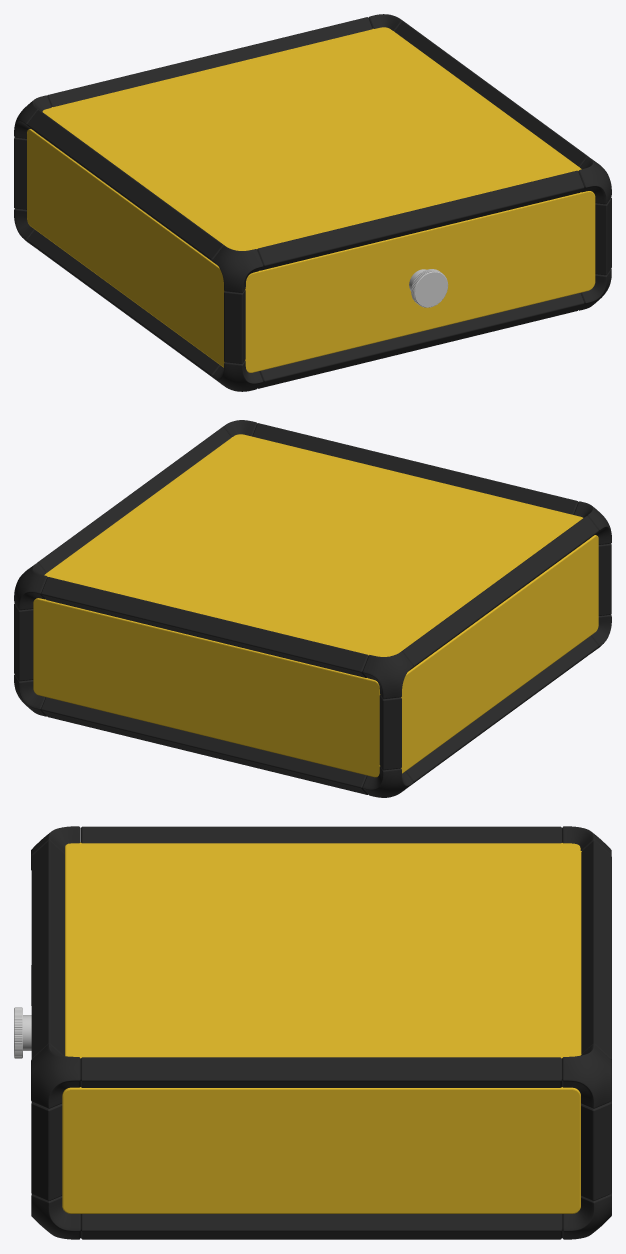
3 views of the same model, one above another, from view 1: azimuth 30°, elevation 25°; view 2: azimuth 150°, elevation 25°; view 3: azimuth 270°, elevation 25° (orthographic). The views are drawn at different scales.
Parts seen in each view (by area): view 1: 374x374x79; view 2: 374x374x79; view 3: 374x374x79.
Boxes of the visible parts, <box> form: 374x374x79: <box>14,14,611,391</box>; 374x374x79: <box>14,420,611,797</box>; 374x374x79: <box>14,826,611,1239</box>.
Size of the model in its own units: 0.4517 by 0.1566 by 0.4646.
